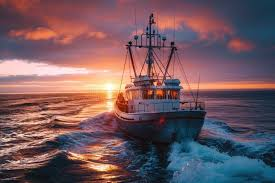boat: (113, 12, 208, 144)
